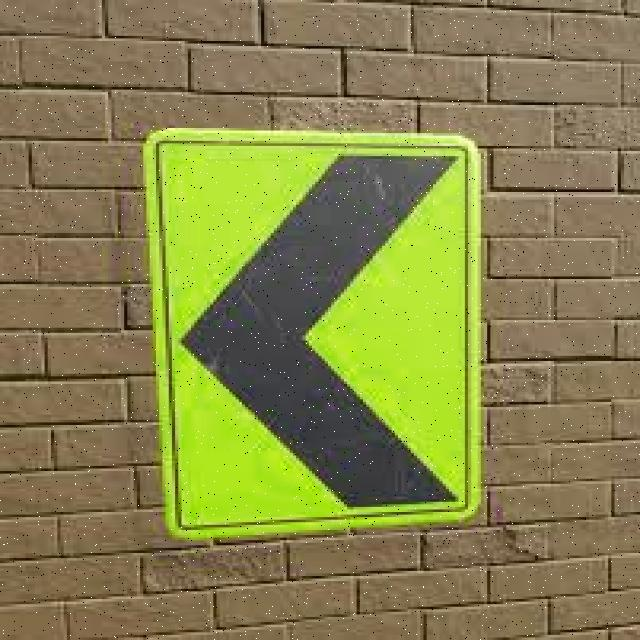chevron_left: (157, 134, 486, 534)
